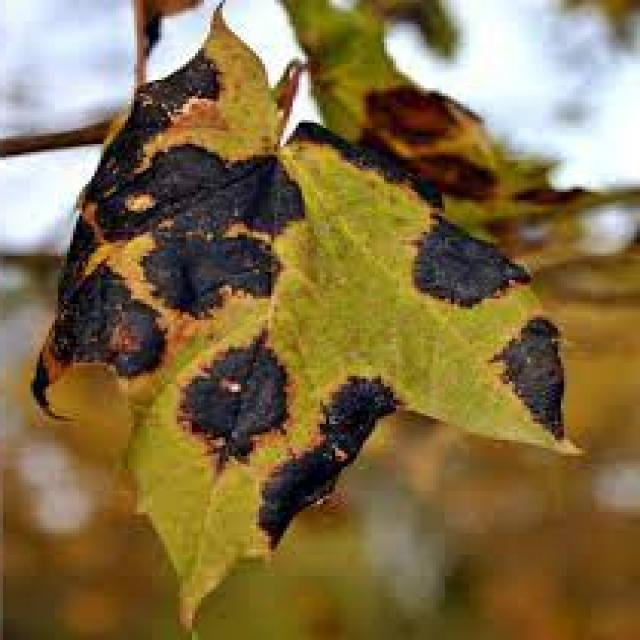black-spot: (0, 99, 439, 576)
